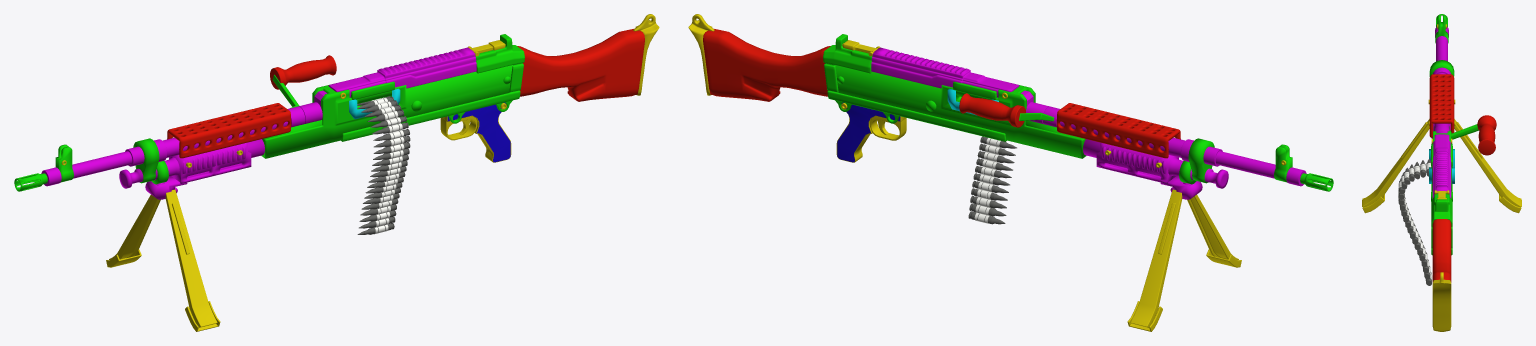
Rendered from my_weapon.fbx.
3 renders of one model, left to right at view 1: azimuth 30°, elevation 25°; view 2: azimuth 150°, elevation 25°; view 3: azimuth 270°, elevation 25°, orthographic. The views are drawn at different scales.
Visible parts, largest first — view 1: gun_low, bullet.001; view 2: gun_low, bullet.001; view 3: gun_low, bullet.001.
Part boxes in pixels (x1,y1,x2,y2): gun_low: [14, 14, 659, 331]; bullet.001: [357, 96, 410, 234]; gun_low: [688, 14, 1333, 331]; bullet.001: [968, 136, 1016, 224]; gun_low: [1362, 14, 1521, 331]; bullet.001: [1398, 159, 1432, 285].
Bounding box in the file's own units: 956 × 253 × 239.
